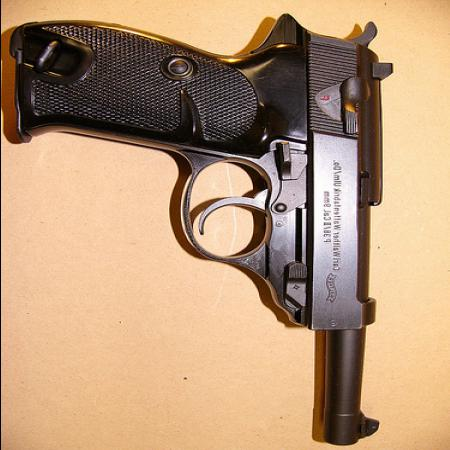Pistol: (12, 17, 394, 448)
